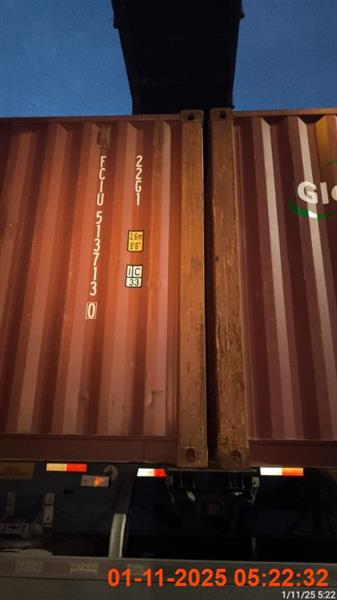broken: (1, 105, 336, 559), (0, 106, 335, 558)
